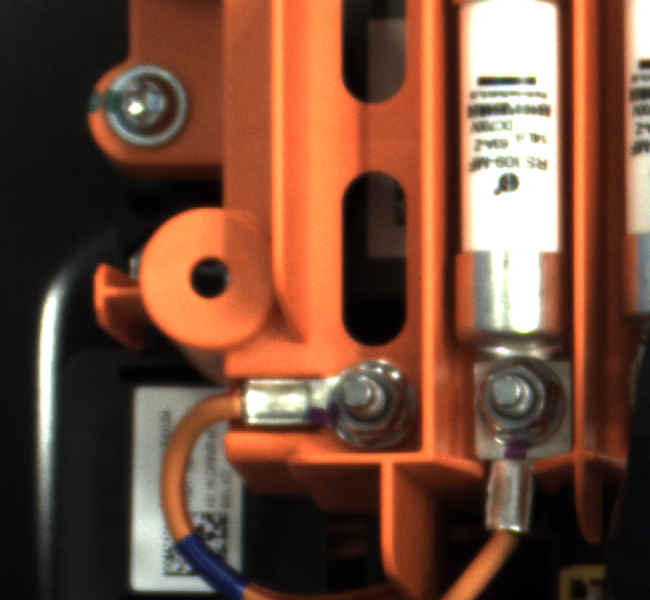screw_m: (95, 61, 197, 157)
screw_s: (306, 358, 423, 453), (473, 360, 574, 461)
